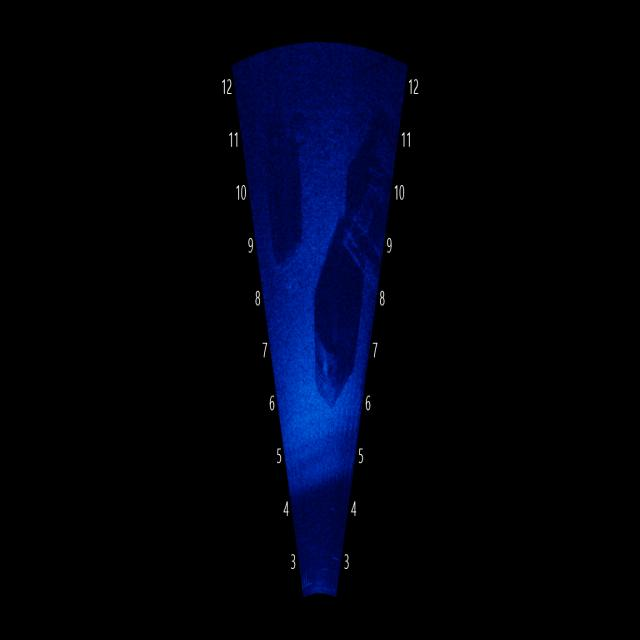square: (307, 198, 366, 439), (268, 115, 315, 278)
